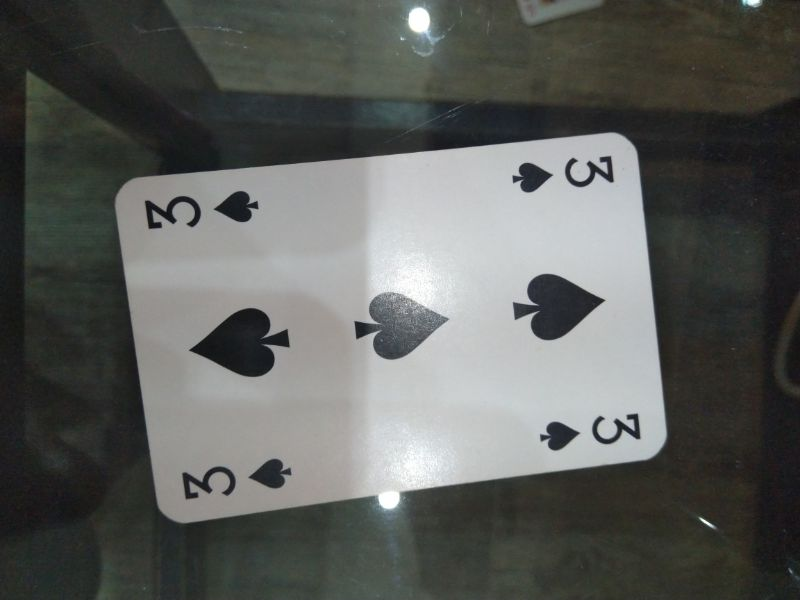3s: (140, 185, 265, 238), (178, 451, 294, 501), (535, 408, 645, 458), (509, 151, 618, 199)
